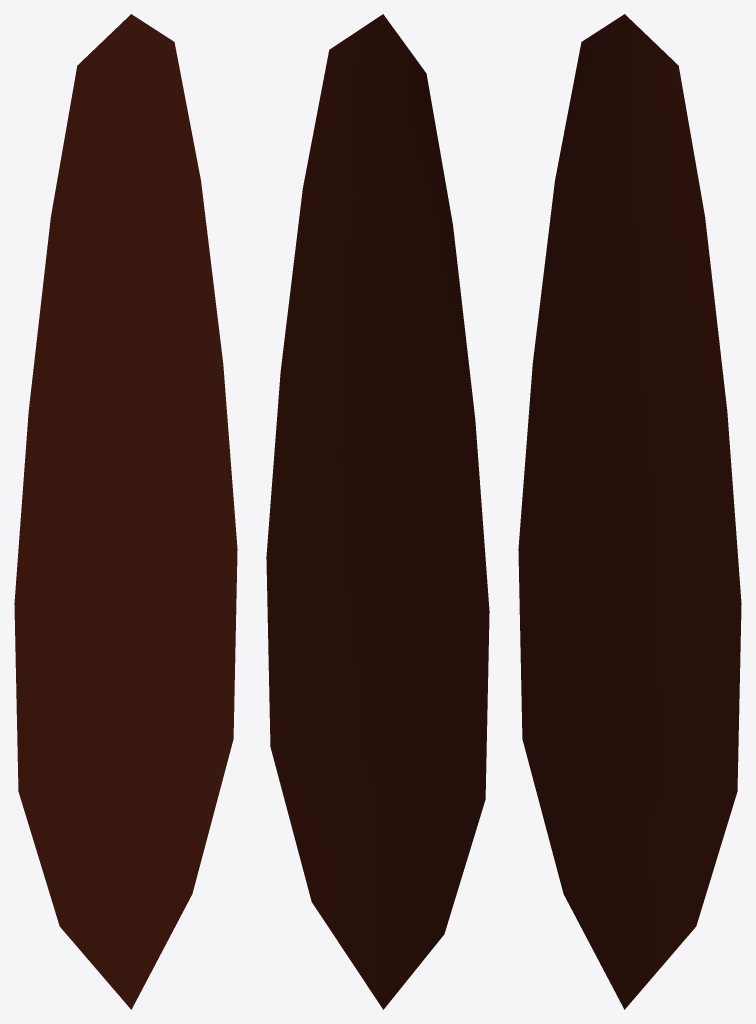
File: pheasant_feather_flight_secondary_007.obj
The picture shows the model from 3 angles, left to right: view 1: azimuth 30°, elevation 25°; view 2: azimuth 150°, elevation 25°; view 3: azimuth 330°, elevation 25°; orthographic projection.
Parts seen in each view (by area): view 1: feather_flight_secondary_007; view 2: feather_flight_secondary_007; view 3: feather_flight_secondary_007.
Part boxes in pixels (x1,y1,x2,y2): feather_flight_secondary_007: (14,14,237,1009); feather_flight_secondary_007: (266,14,489,1009); feather_flight_secondary_007: (518,14,741,1009).
Size of the model in its own units: 0.0152 by 0.0649 by 0.000653.
